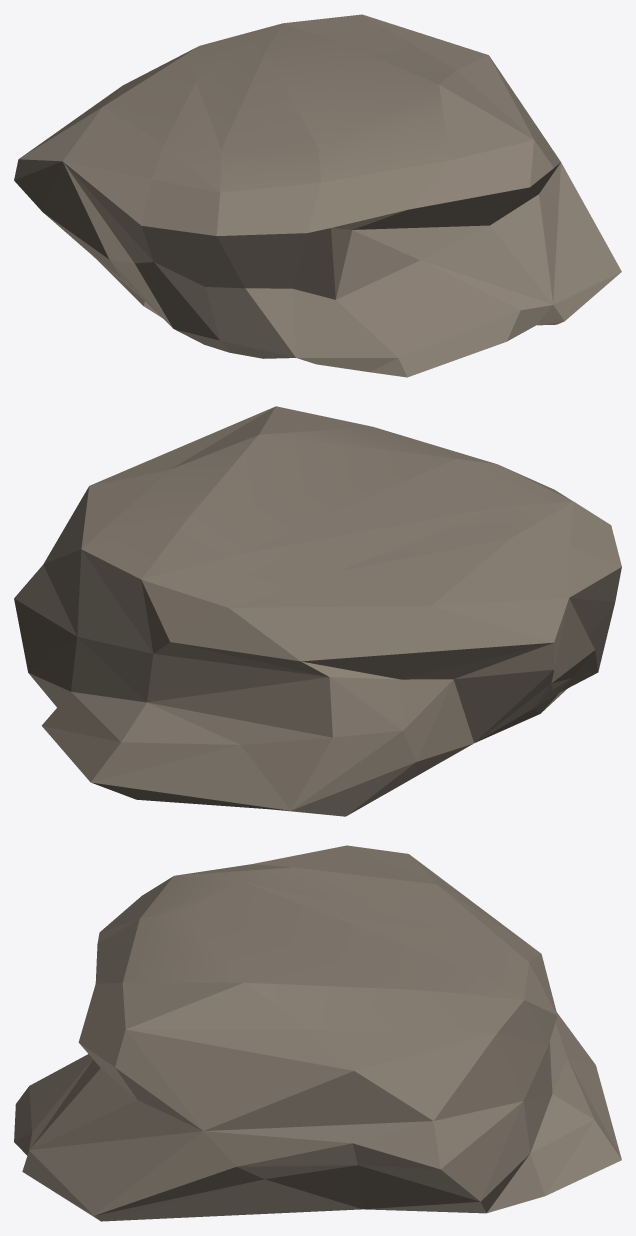
The model's file is SM_Env_Rock_03.fbx.
The picture shows the model from 3 angles, top to bottom: view 1: azimuth 30°, elevation 25°; view 2: azimuth 150°, elevation 25°; view 3: azimuth 270°, elevation 25°; orthographic projection. The views are drawn at different scales.
Parts seen in each view (by area): view 1: SM_Env_Rock_03; view 2: SM_Env_Rock_03; view 3: SM_Env_Rock_03.
Boxes of the visible parts, left/top/right/bottom form: SM_Env_Rock_03: left=14, top=14, right=621, bottom=377; SM_Env_Rock_03: left=14, top=406, right=621, bottom=816; SM_Env_Rock_03: left=14, top=845, right=621, bottom=1221.
Bounding box in the file's own units: 330 × 130 × 343.
